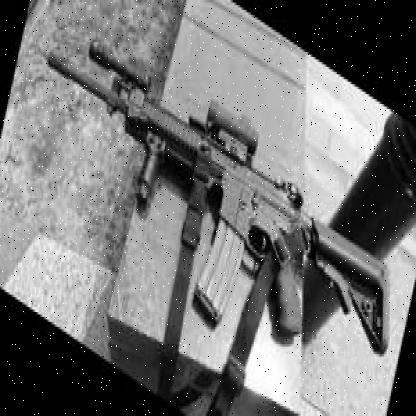rifle: (26, 17, 406, 416)
